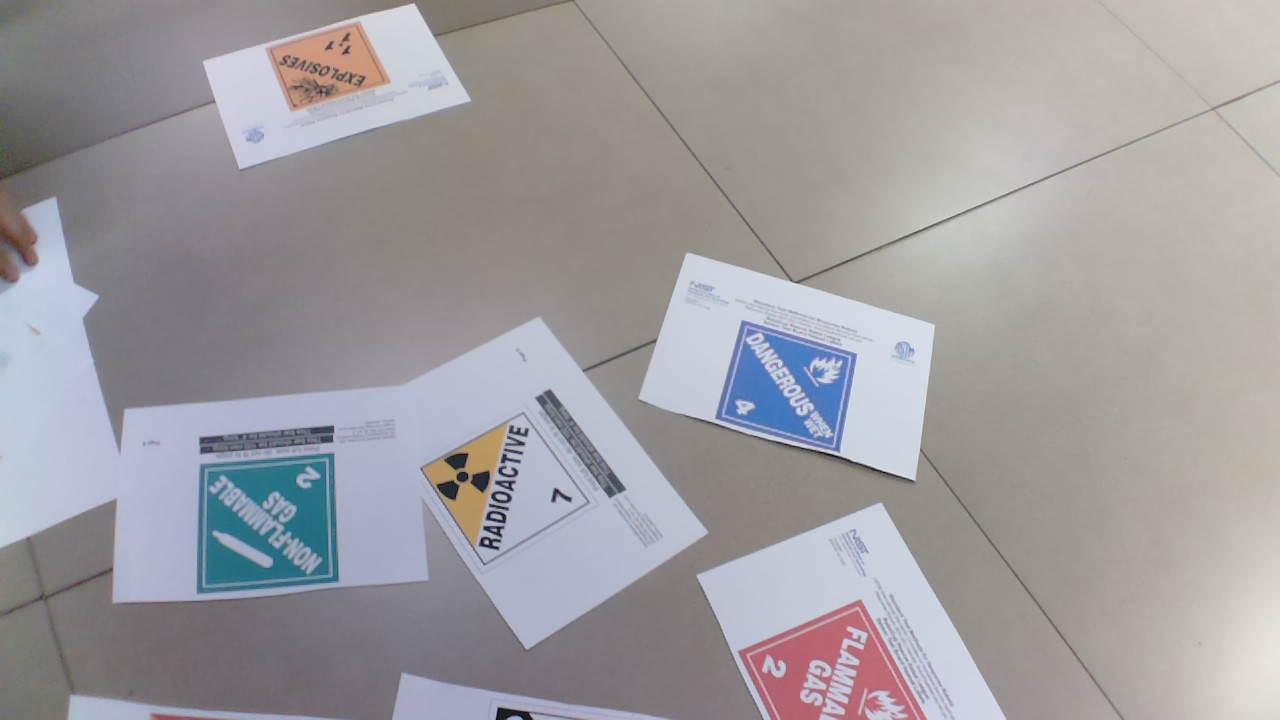dangerous-when-wet: (716, 321, 865, 460)
explosive: (250, 17, 394, 113)
flammable: (730, 601, 930, 720)
non-flammable-gas: (204, 463, 339, 585)
radioactive: (422, 411, 597, 570)
